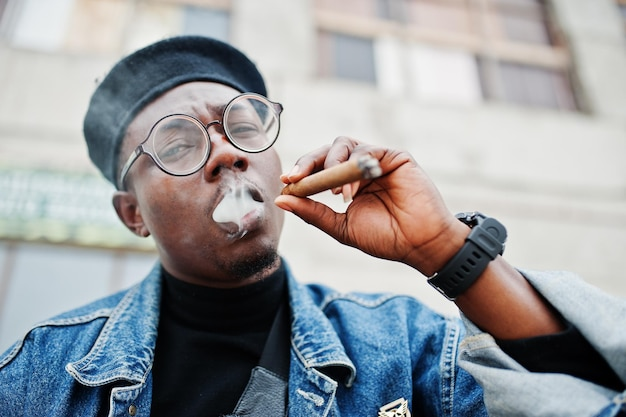cigarette: (280, 152, 382, 200)
